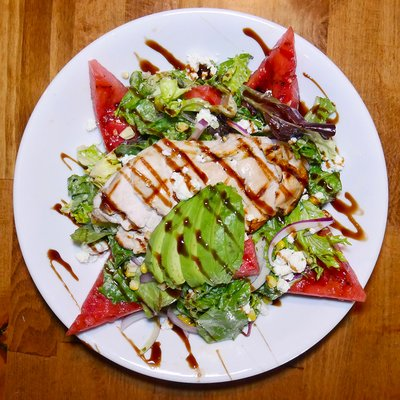curry: (0, 2, 392, 388)
